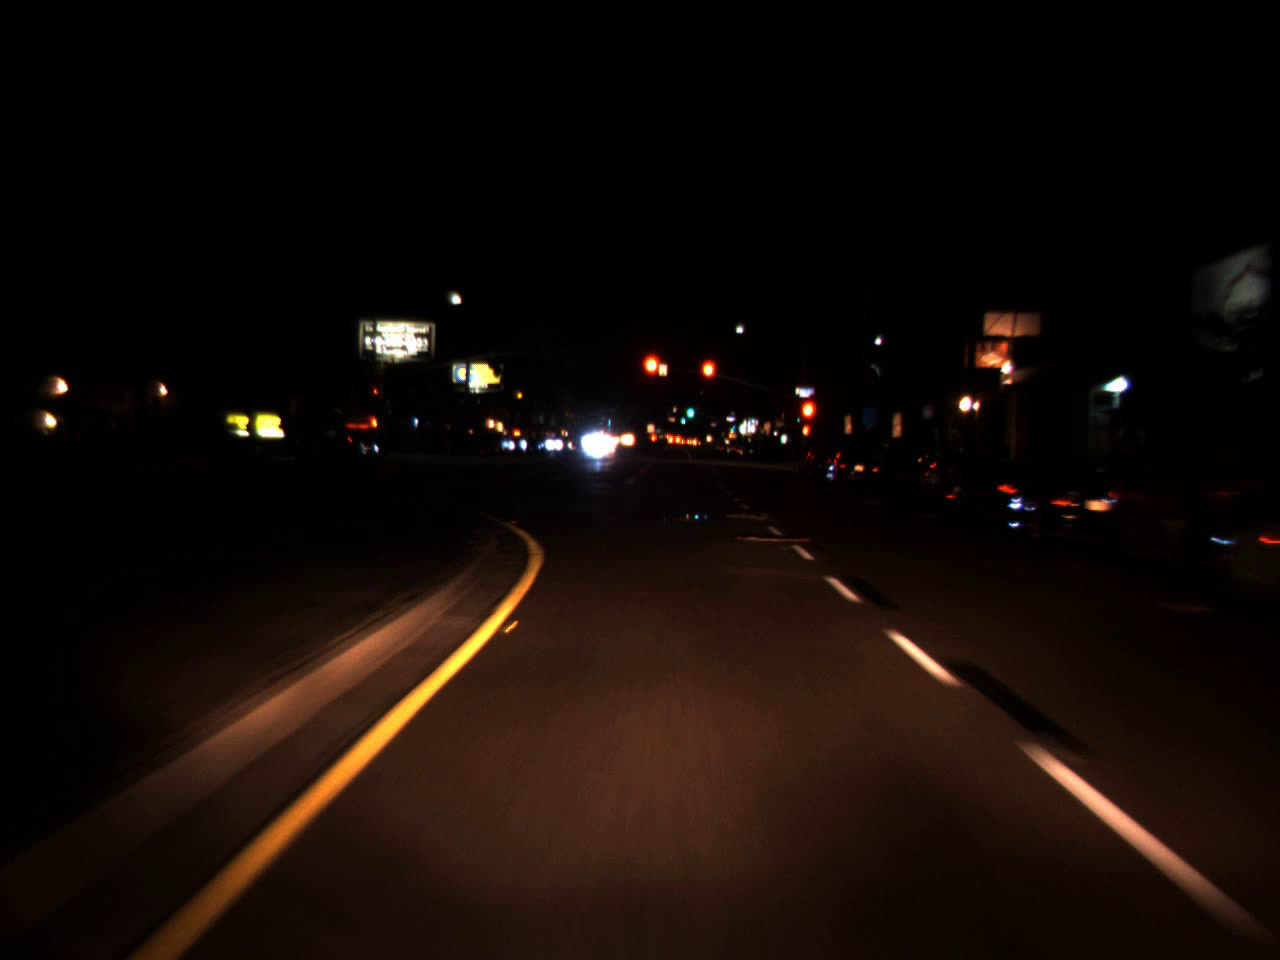go: (685, 397, 695, 421), (677, 408, 686, 426), (727, 419, 736, 435)
stop: (640, 351, 664, 399), (698, 357, 717, 400), (799, 398, 817, 438), (372, 387, 378, 400)
